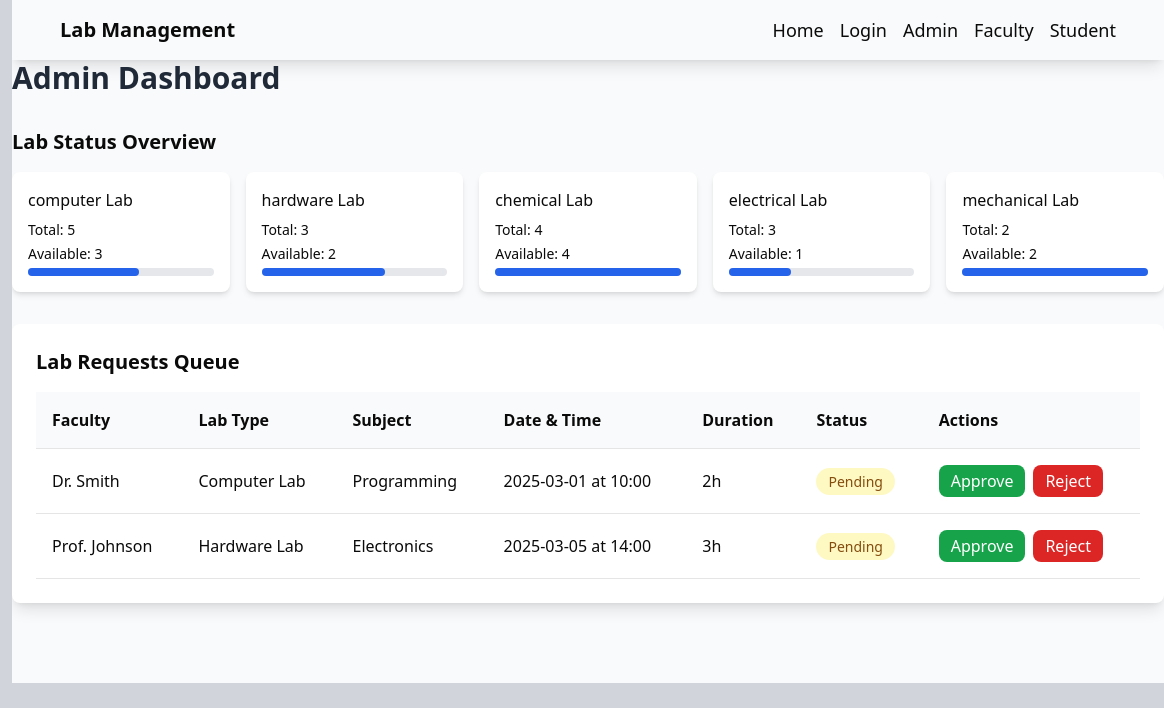
Test: Lab Booking Request Approval & Rejection › shows success toast when a lab request is approved
Check: the heading "Lab Requests Queue" is shown, box [36,348,240,375]
// Click on the first pending request's "Approve" button
What coordinates should you click on to do the following:
click the button "Approve" in the row of "Dr. Smith"
I would click on:
 (983, 481)
Its box is [939,465,1026,497].
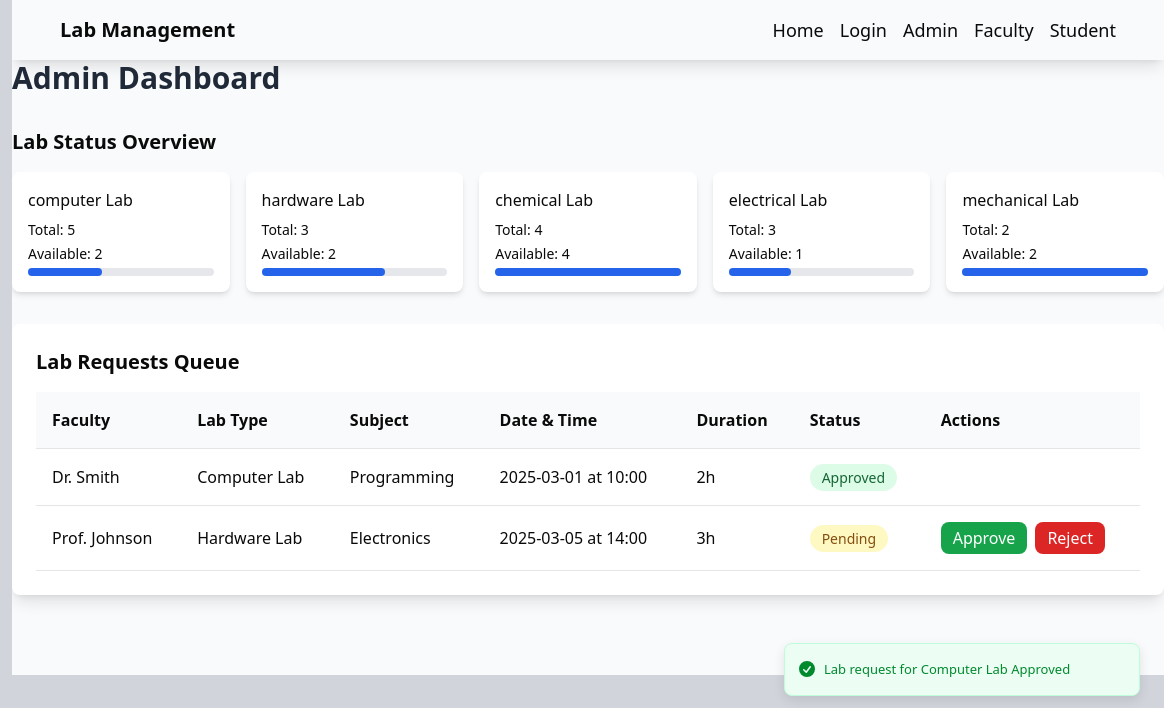
Check: the text "Lab request for Computer Lab Approved" is shown, box [824,660,1070,679]
